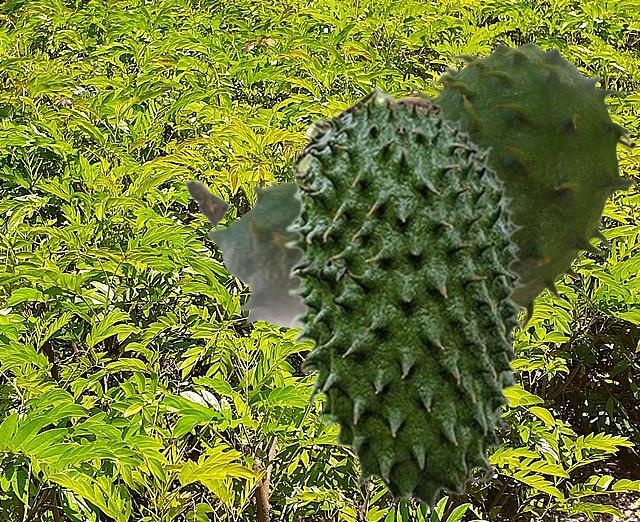guyabano: (184, 42, 636, 333), (284, 84, 527, 510)
